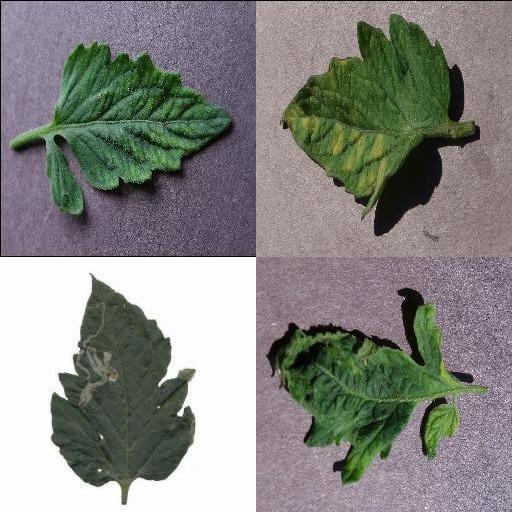Leaf Miner: (50, 273, 198, 487)
Leaf Mold: (279, 13, 451, 221)
Mosaic Virus: (274, 301, 456, 483), (46, 41, 234, 215)
